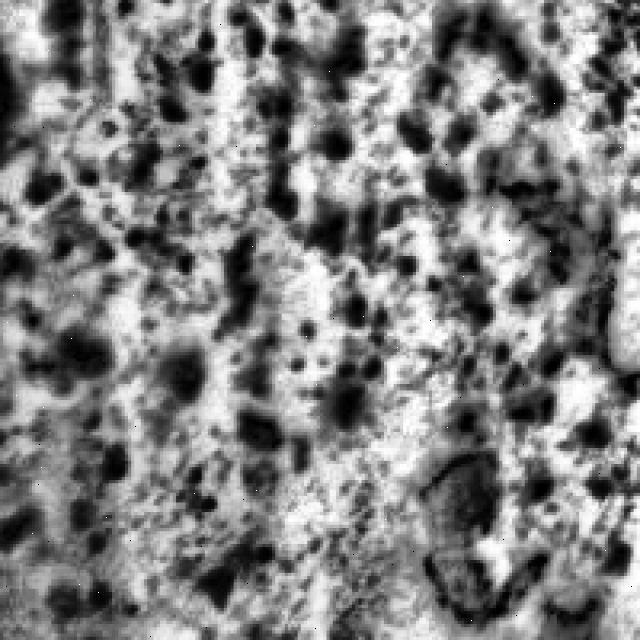Rolled_in_Scale: (3, 0, 496, 438), (12, 339, 410, 608)
Scratches: (477, 134, 640, 400), (416, 432, 560, 630)
